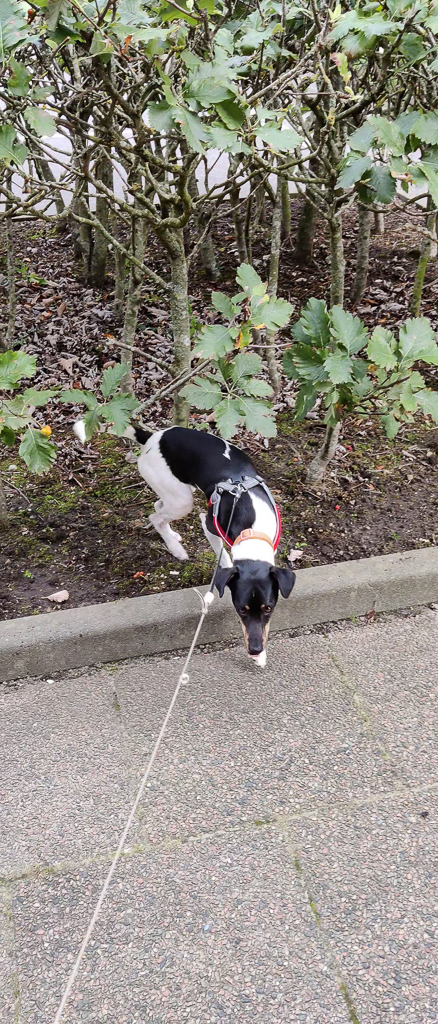Dog: (61, 406, 312, 684)
